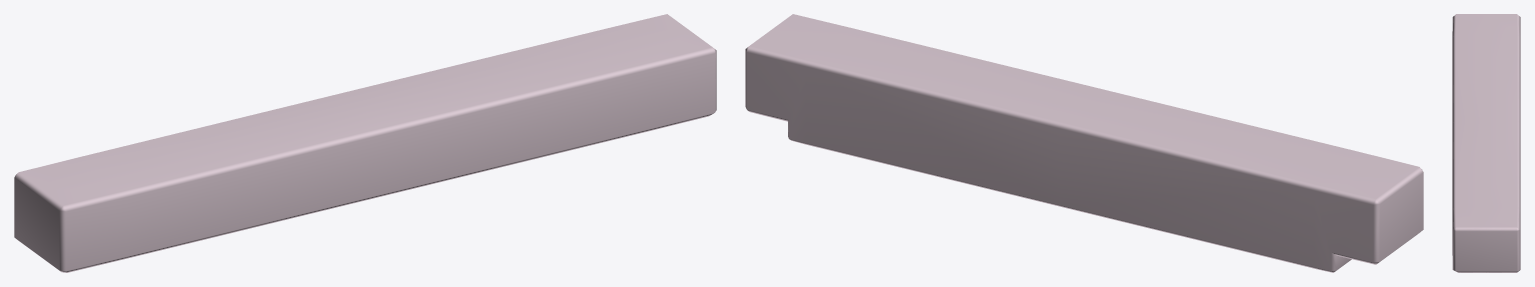
Rendered from mod_sc_roma_001_wall_014.fbx.
3 views of the same model, side by side, from view 1: azimuth 30°, elevation 25°; view 2: azimuth 150°, elevation 25°; view 3: azimuth 270°, elevation 25° (orthographic). The views are drawn at different scales.
Visible parts, largest first — view 1: mod_sc_roma_001_wall_014; view 2: mod_sc_roma_001_wall_014; view 3: mod_sc_roma_001_wall_014.
Part boxes in pixels (left/top/right/bottom): mod_sc_roma_001_wall_014: left=14, top=14, right=716, bottom=272; mod_sc_roma_001_wall_014: left=745, top=14, right=1423, bottom=272; mod_sc_roma_001_wall_014: left=1452, top=14, right=1520, bottom=272.
Size of what is drawn, in the model's own units: 750 by 95.02 by 100.
